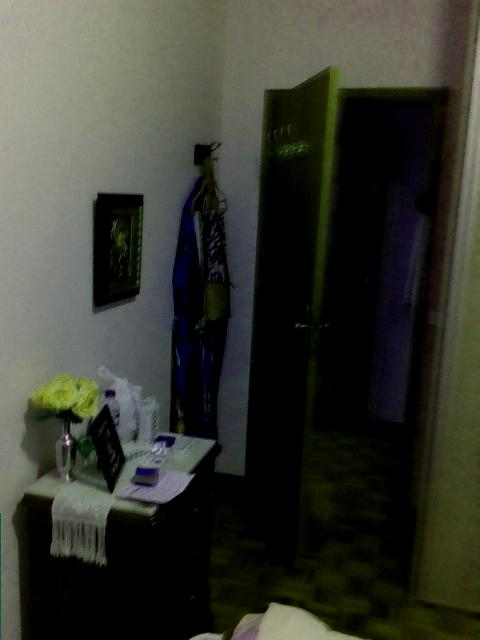semi_door: (244, 59, 456, 577)
